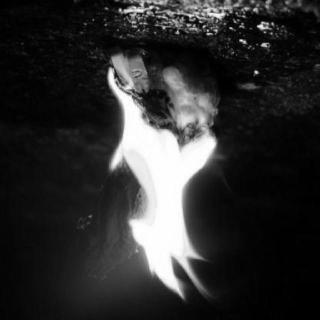Fire: (74, 65, 247, 302)
